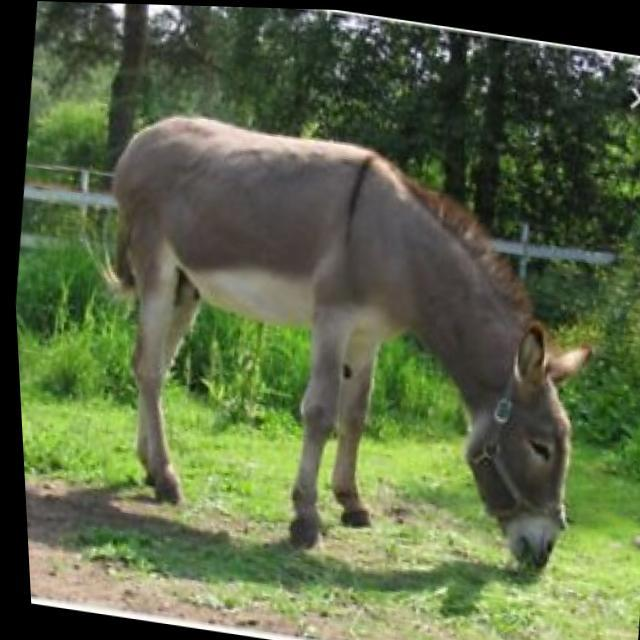Donkey: (68, 101, 616, 579)
